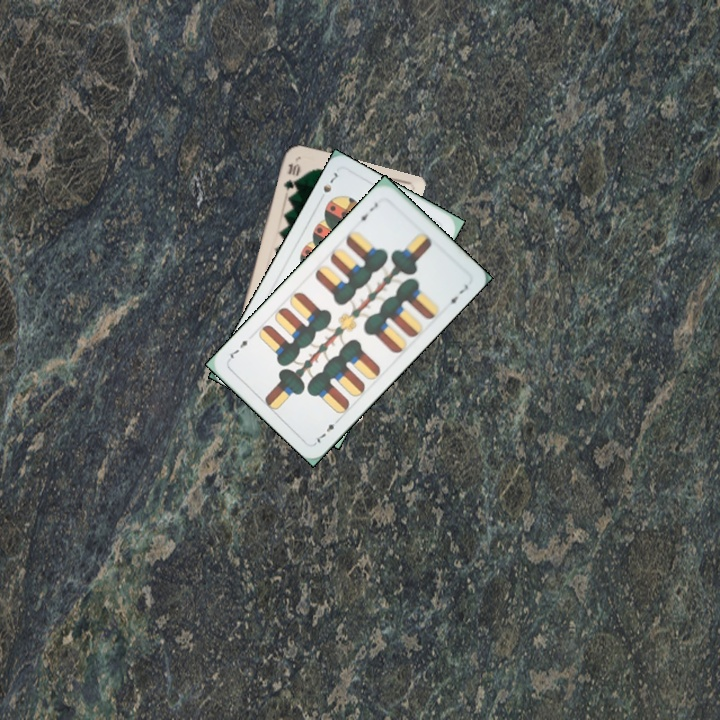E7: (311, 414, 343, 446), (353, 198, 381, 226)
G10: (279, 158, 302, 194)
S7: (319, 168, 340, 195)
